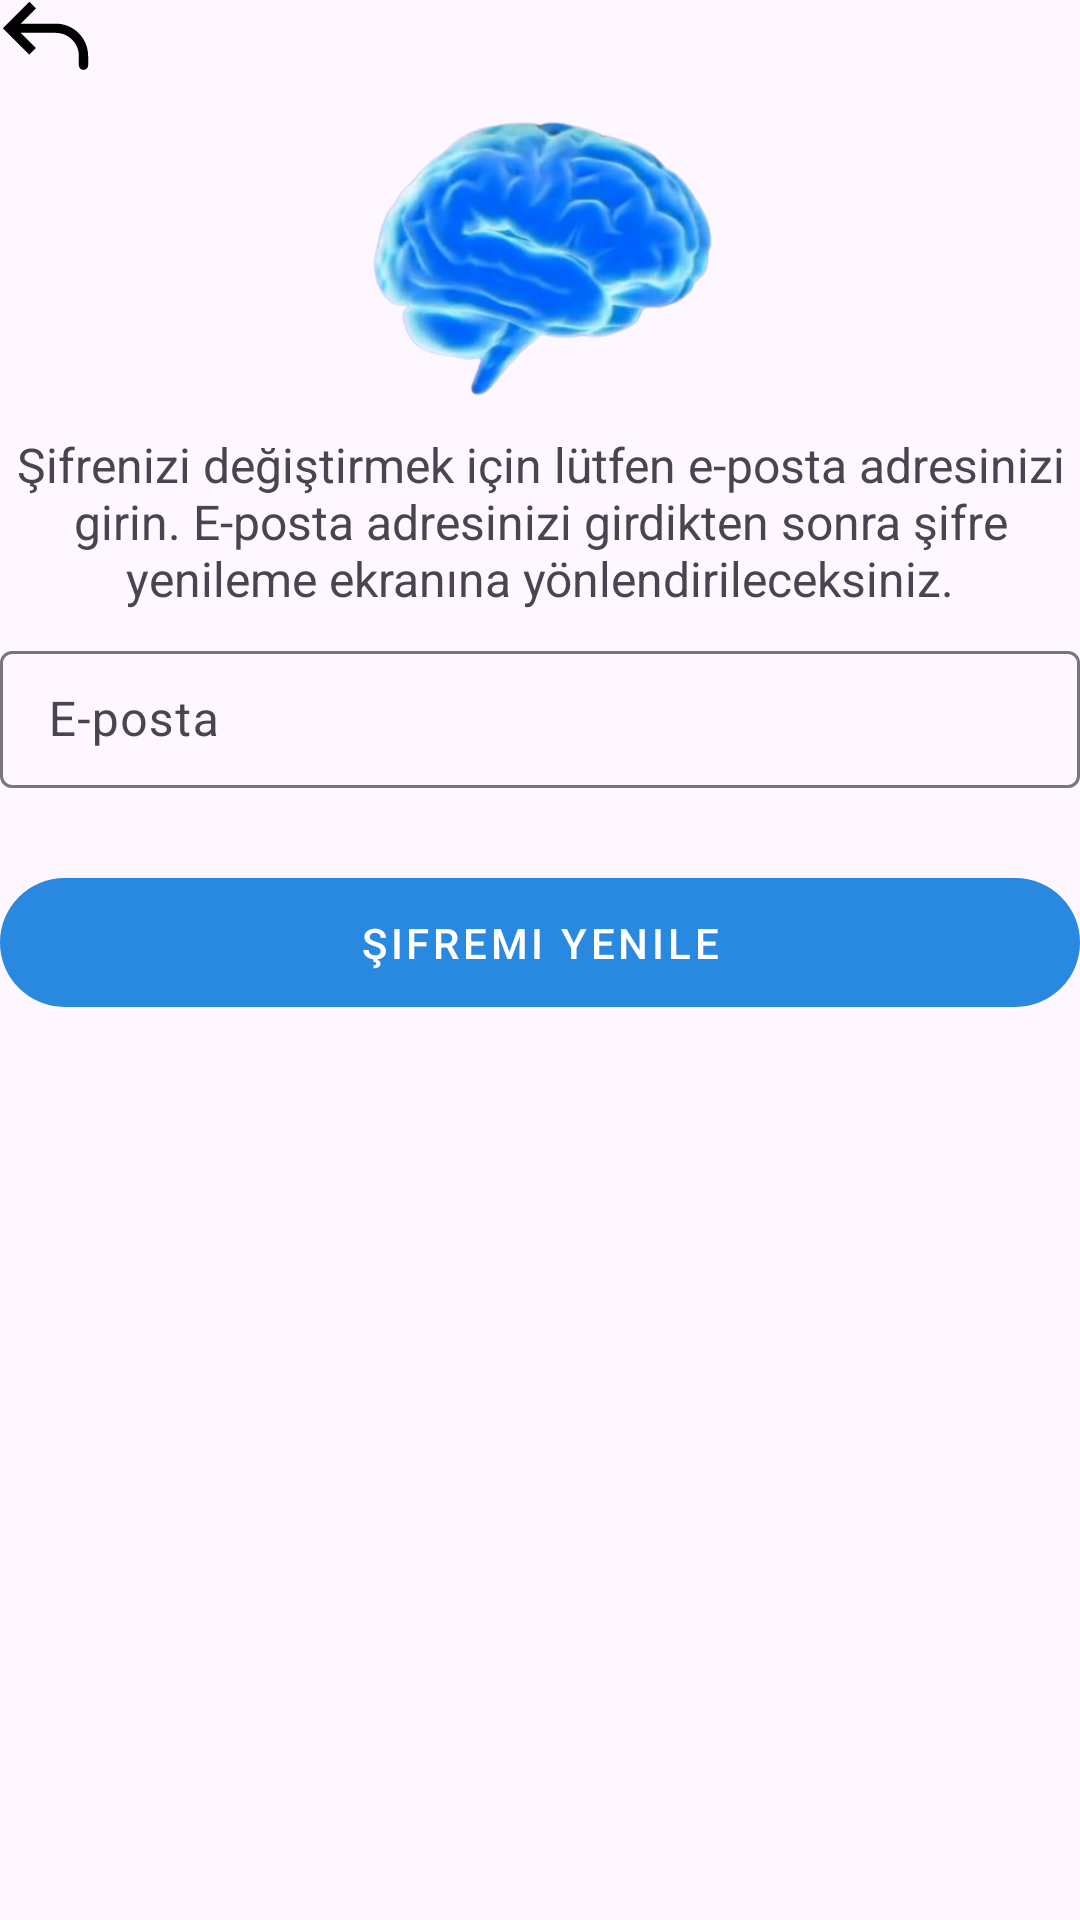

Point at icon controls on the screen. Image size 1080 × 1920, points as (x=x, y=y).
back: (x=46, y=36)
